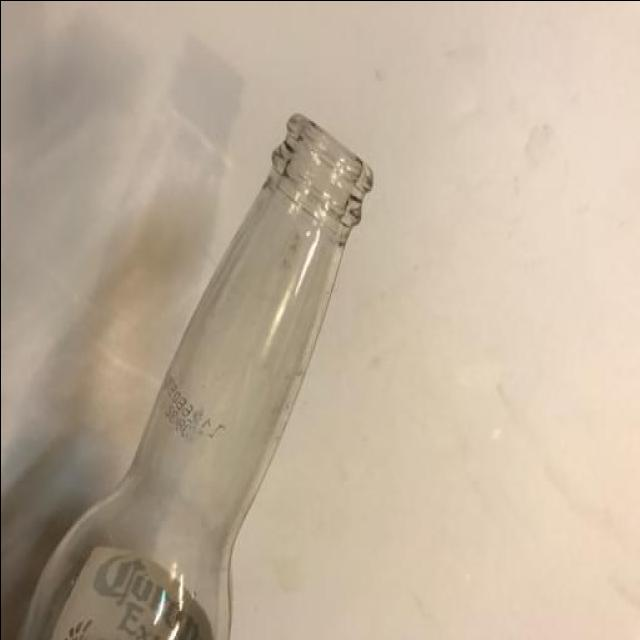glass: (19, 108, 370, 640)
